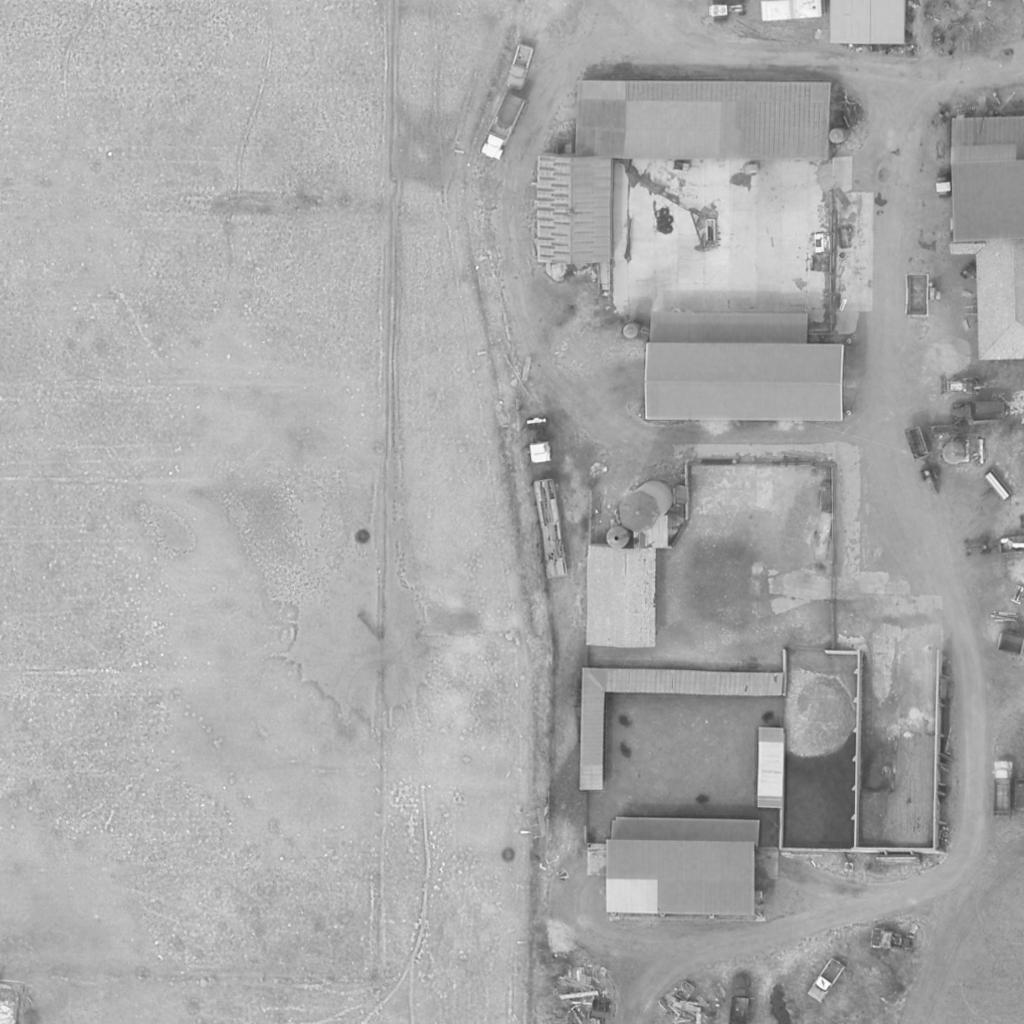vehicle: (478, 93, 528, 161), (903, 427, 945, 495), (806, 955, 846, 1005), (759, 0, 825, 25), (937, 374, 991, 400), (507, 45, 537, 89), (993, 761, 1015, 819), (953, 402, 1009, 424), (707, 0, 749, 24), (961, 536, 997, 558), (934, 176, 966, 200)
